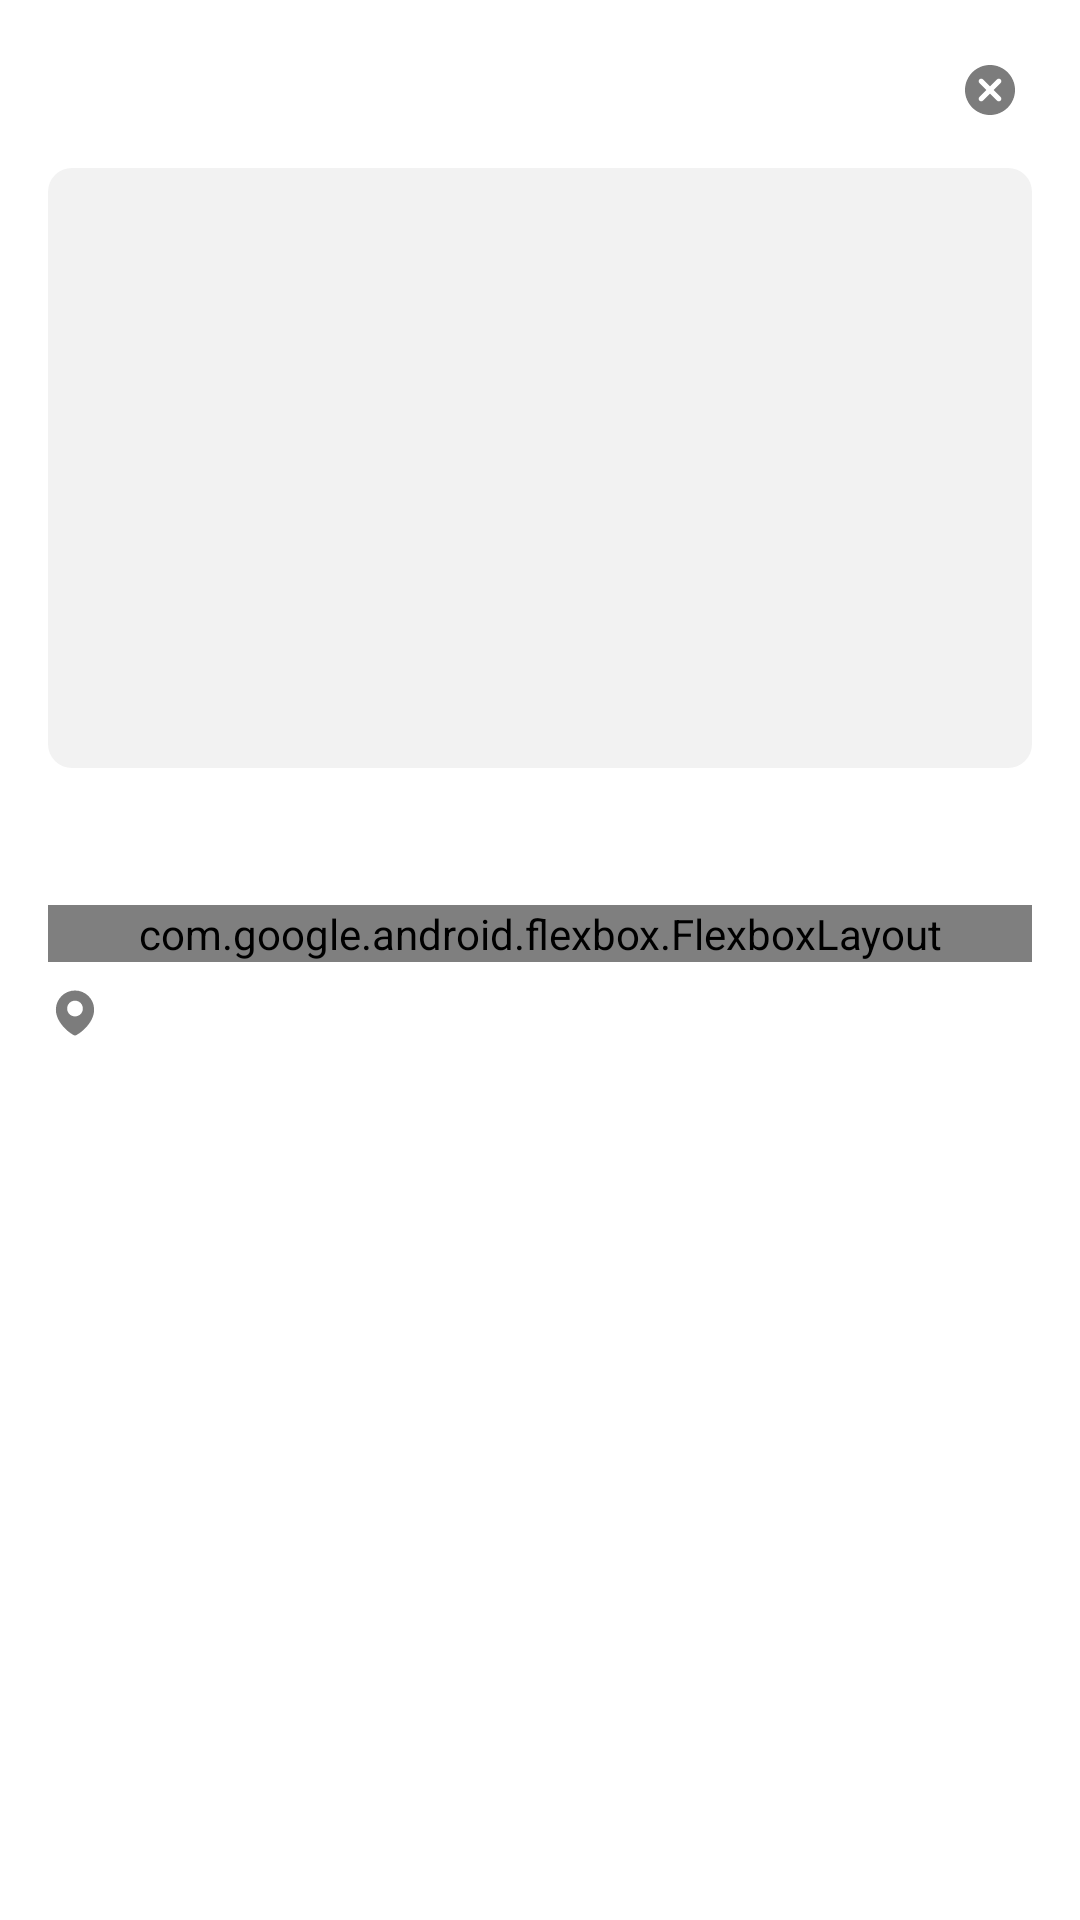

Screen size 1080x1920. Icon name, then its box in pixels as (x1,y1,x2,y2):
close: (965,65,1015,115)
location: (56,990,94,1036)
